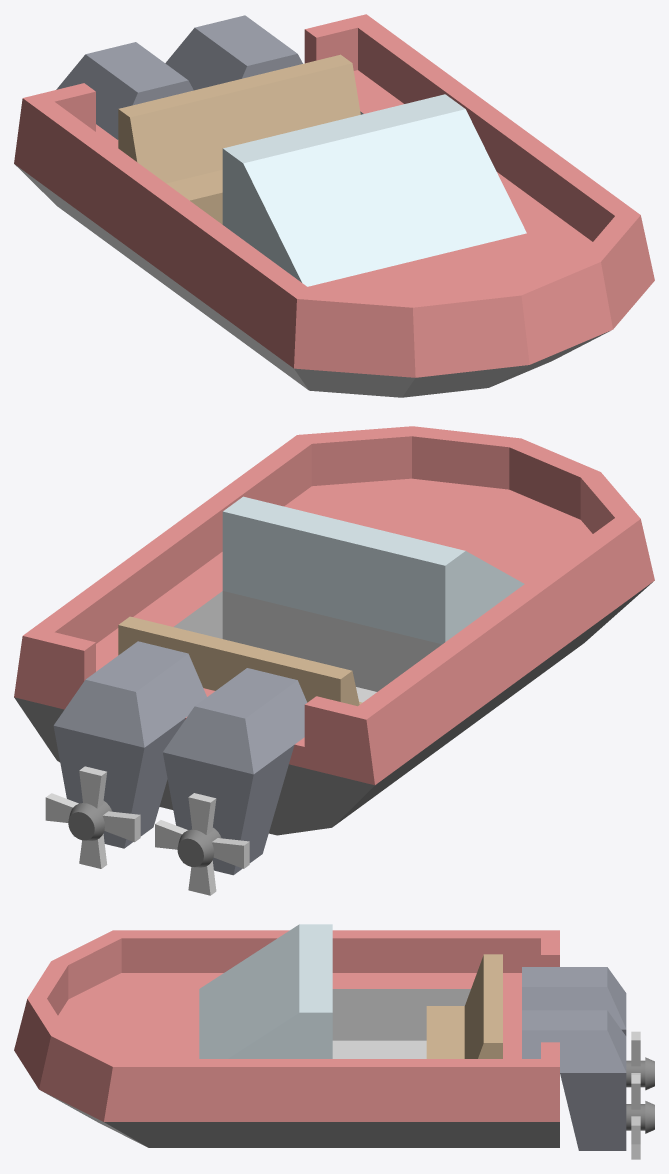
File: watercraftPack_012.glb
3 views of the same model, one above another, from view 1: azimuth 30°, elevation 25°; view 2: azimuth 150°, elevation 25°; view 3: azimuth 270°, elevation 25° (orthographic). The views are drawn at different scales.
Visible parts, largest first — view 1: Mesh5 Group1 Model, Mesh1 Group2 Group1 Model, Mesh2 Group3 Group1 Model; view 2: Mesh5 Group1 Model, Mesh2 Group3 Group1 Model, Mesh1 Group2 Group1 Model, Mesh4 Group5 Group1 Model, Mesh3 Group4 Group1 Model; view 3: Mesh5 Group1 Model, Mesh1 Group2 Group1 Model, Mesh2 Group3 Group1 Model, Mesh4 Group5 Group1 Model, Mesh3 Group4 Group1 Model.
Part boxes in pixels (x1,y1,x2,y2): Mesh5 Group1 Model: (14, 14, 654, 397); Mesh1 Group2 Group1 Model: (165, 15, 302, 90); Mesh2 Group3 Group1 Model: (56, 42, 193, 139); Mesh5 Group1 Model: (14, 426, 654, 835); Mesh2 Group3 Group1 Model: (162, 668, 307, 875); Mesh1 Group2 Group1 Model: (53, 641, 206, 848); Mesh4 Group5 Group1 Model: (45, 766, 140, 868); Mesh3 Group4 Group1 Model: (155, 793, 249, 895); Mesh5 Group1 Model: (14, 924, 559, 1147); Mesh1 Group2 Group1 Model: (522, 1010, 654, 1150); Mesh2 Group3 Group1 Model: (522, 967, 654, 1090); Mesh4 Group5 Group1 Model: (631, 1075, 640, 1159); Mesh3 Group4 Group1 Model: (631, 1031, 640, 1074).
Bounding box in the file's own units: 1.78 × 0.9571 × 3.37.
